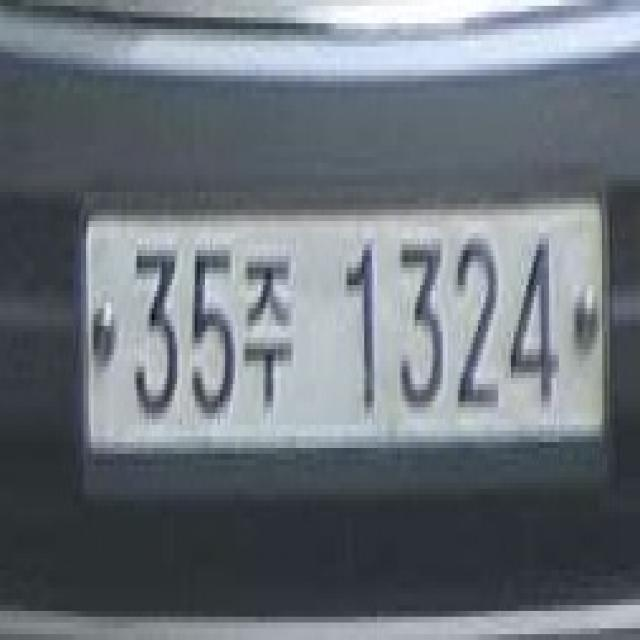1: (346, 239, 377, 413)
2: (450, 233, 501, 413)
3: (394, 233, 448, 413), (132, 239, 182, 413)
4: (508, 227, 556, 401)
5: (187, 238, 238, 424)
ju: (243, 244, 293, 413)
license_plate: (81, 186, 610, 477)
